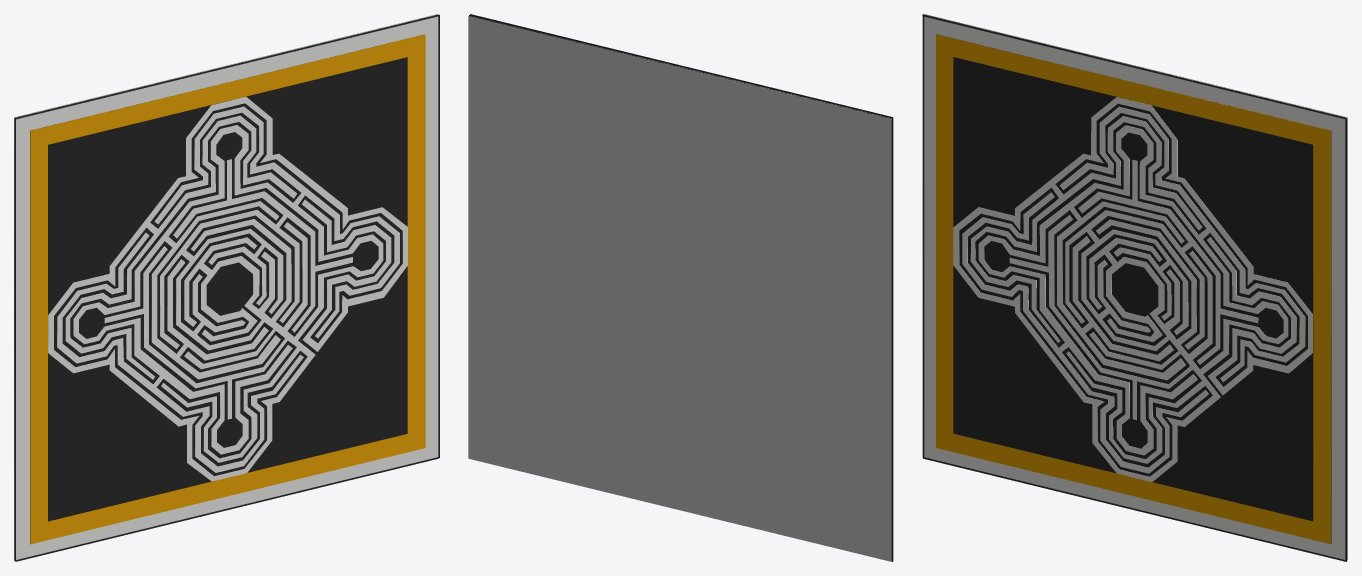
3 views of the same model, side by side, from view 1: azimuth 30°, elevation 25°; view 2: azimuth 150°, elevation 25°; view 3: azimuth 330°, elevation 25° (orthographic).
Visible parts, largest first — view 1: ID16a_p12, ID16a_p13, ID16a_p11, ID16a_p01, ID16a_p04, ID16a_p08, ID16a_dos, ID16a_p02, ID16a_p06, ID16a_p10; view 2: ID16a_dos, ID16a_p00, ID16a_p08, ID16a_p02; view 3: ID16a_p12, ID16a_p13, ID16a_p11, ID16a_p01, ID16a_p02, ID16a_p08, ID16a_p04, ID16a_dos, ID16a_p06, ID16a_p00, ID16a_p10.
Boxes of the visible parts, bbox=[...] form: ID16a_p12: bbox=[48, 57, 407, 521]; ID16a_p13: bbox=[48, 96, 407, 481]; ID16a_p11: bbox=[30, 34, 425, 544]; ID16a_p01: bbox=[16, 14, 438, 559]; ID16a_p04: bbox=[15, 457, 438, 561]; ID16a_p08: bbox=[16, 14, 439, 119]; ID16a_dos: bbox=[14, 14, 437, 559]; ID16a_p02: bbox=[14, 117, 15, 560]; ID16a_p06: bbox=[438, 15, 439, 457]; ID16a_p10: bbox=[30, 35, 421, 543]; ID16a_dos: bbox=[468, 16, 891, 561]; ID16a_p00: bbox=[469, 15, 892, 561]; ID16a_p08: bbox=[470, 14, 893, 118]; ID16a_p02: bbox=[892, 118, 893, 561]; ID16a_p12: bbox=[953, 57, 1313, 521]; ID16a_p13: bbox=[953, 97, 1312, 481]; ID16a_p11: bbox=[936, 34, 1331, 544]; ID16a_p01: bbox=[924, 14, 1346, 559]; ID16a_p02: bbox=[922, 16, 924, 457]; ID16a_p08: bbox=[922, 14, 1345, 119]; ID16a_p04: bbox=[923, 457, 1346, 561]; ID16a_dos: bbox=[924, 14, 1347, 559]; ID16a_p06: bbox=[1345, 118, 1346, 561]; ID16a_p00: bbox=[923, 14, 1347, 560]; ID16a_p10: bbox=[937, 34, 1331, 543].
Bounding box in the file's own units: 0.7 × 0.6998 × 0.0071.
